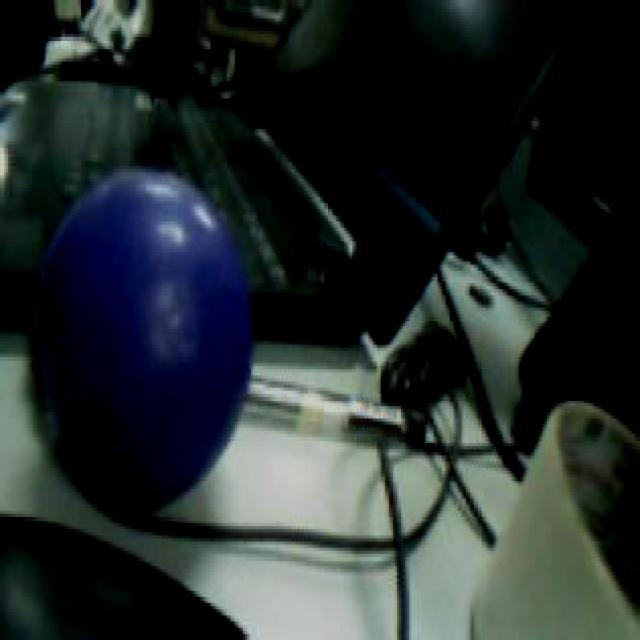BallPurple: (34, 166, 252, 510)
